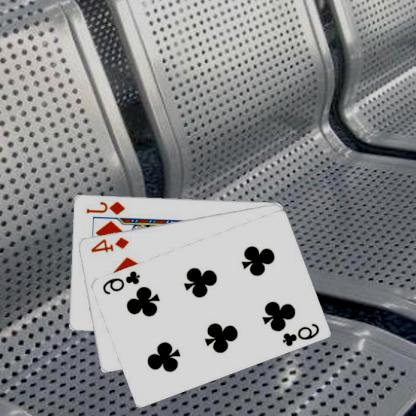4D: (90, 233, 132, 254)
6C: (101, 268, 143, 296), (280, 320, 322, 348)
JD: (85, 198, 128, 216)
